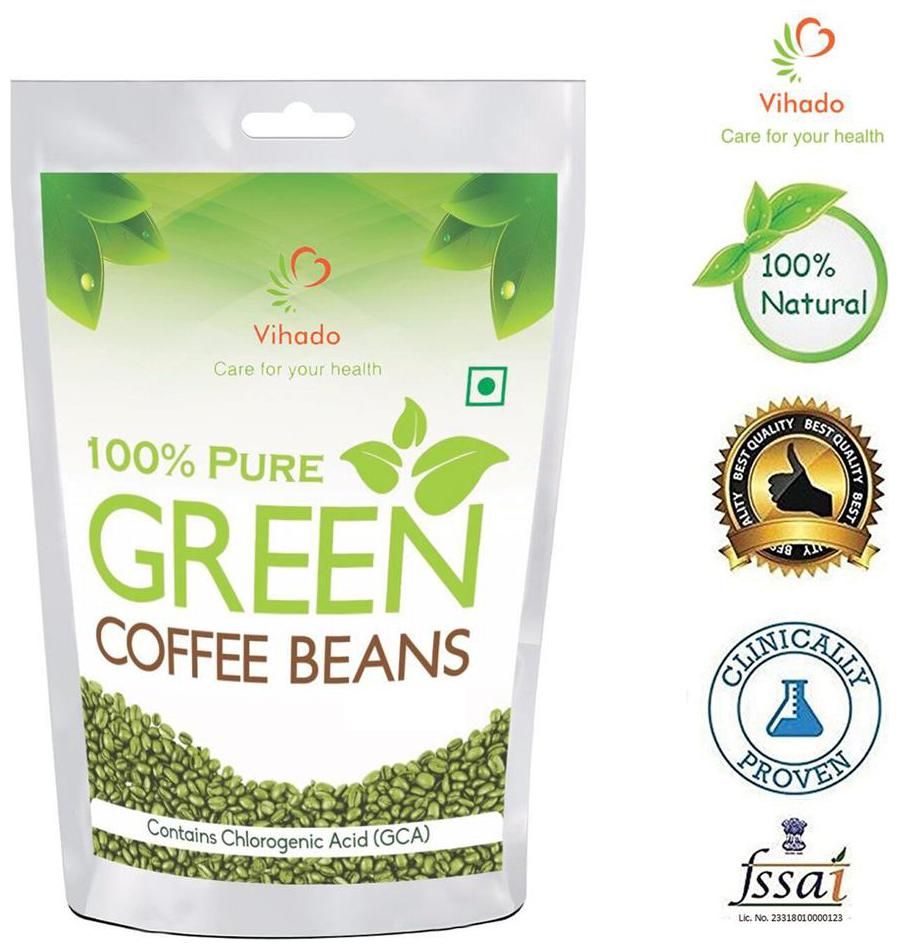fssai: (725, 846, 851, 911)
